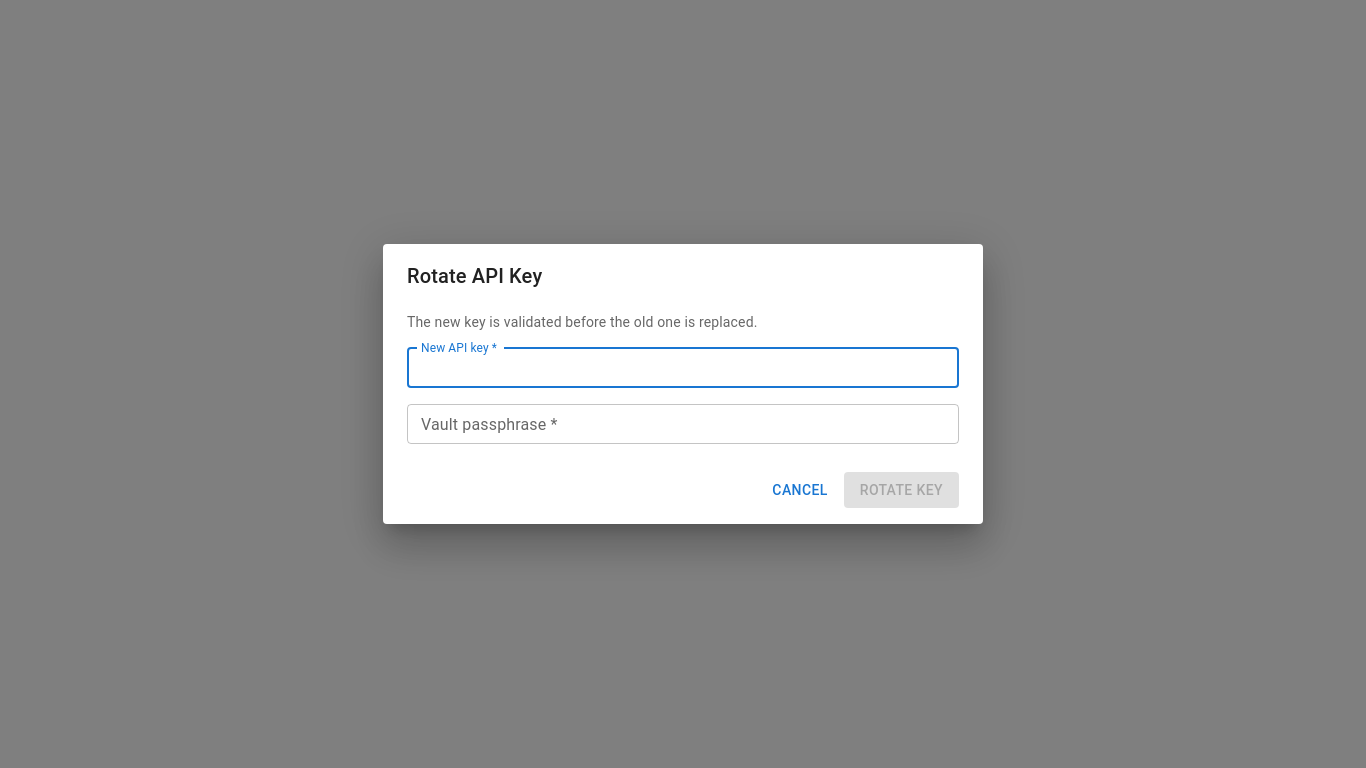
Test: RotateKeyDialog › a failed validation never touches the stored record
Step 1. Type "sk-ant-new-key-abcd" into the password field labelled "New API key *" → point(683, 368), box [407,348,959,388]
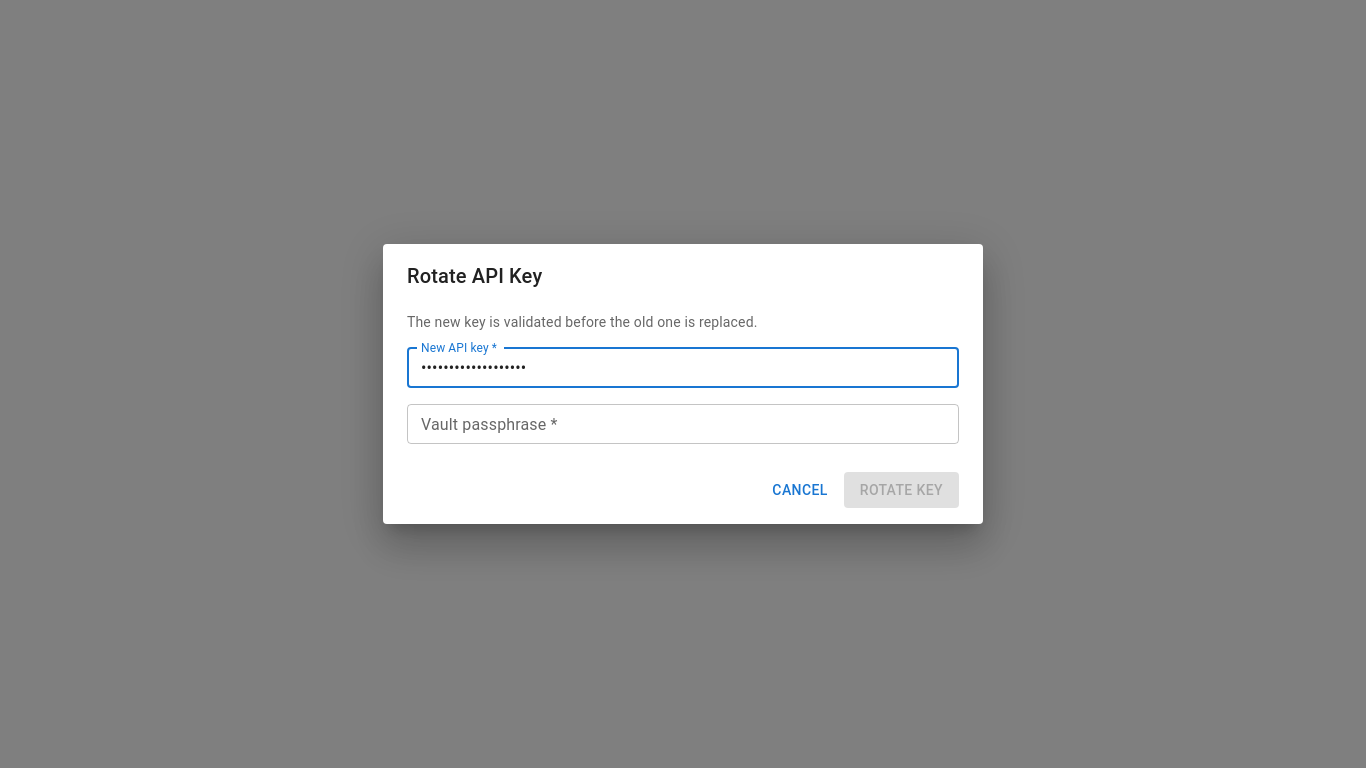
Step 2. Type "correct horse battery staple" into the password field labelled "Vault passphrase *" → point(683, 424), box [407,404,959,444]
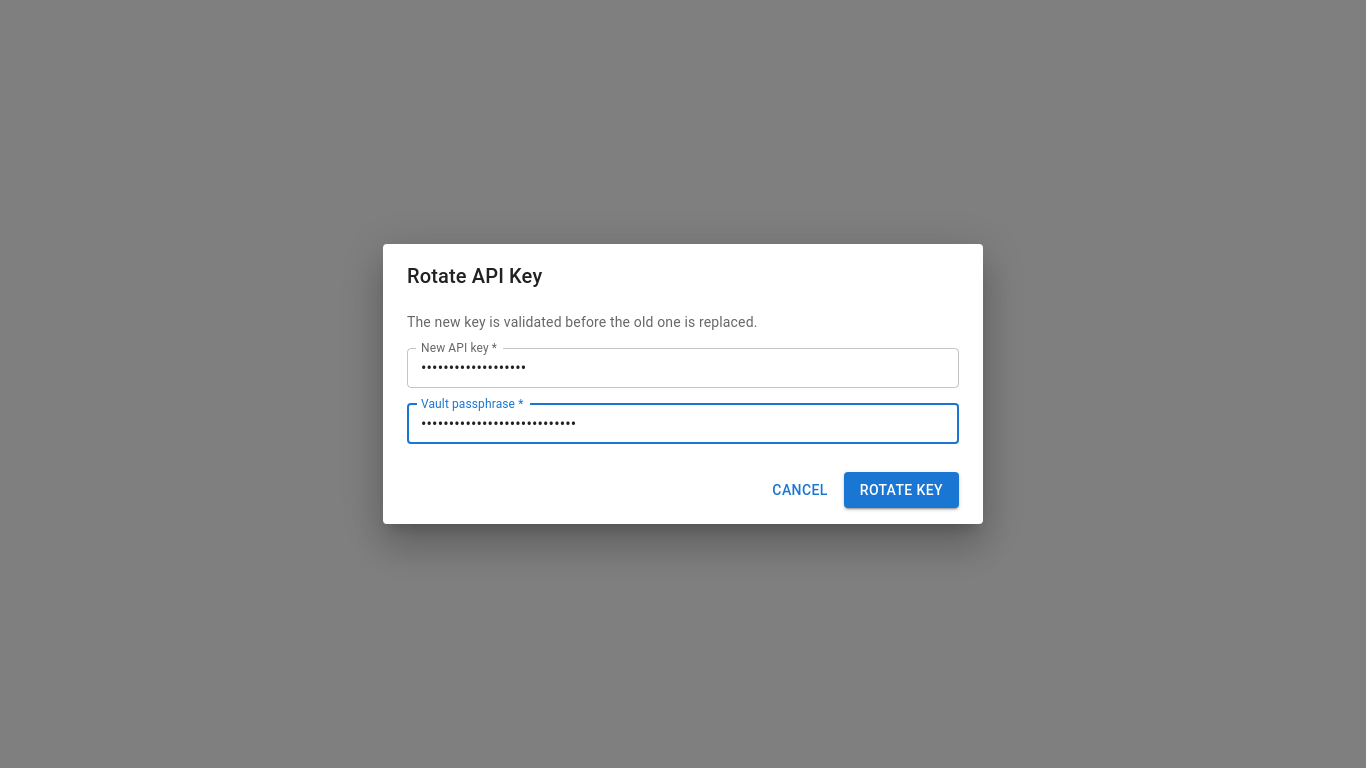
Step 3. Click the button "Rotate Key" → point(901, 490), box [844,472,959,508]
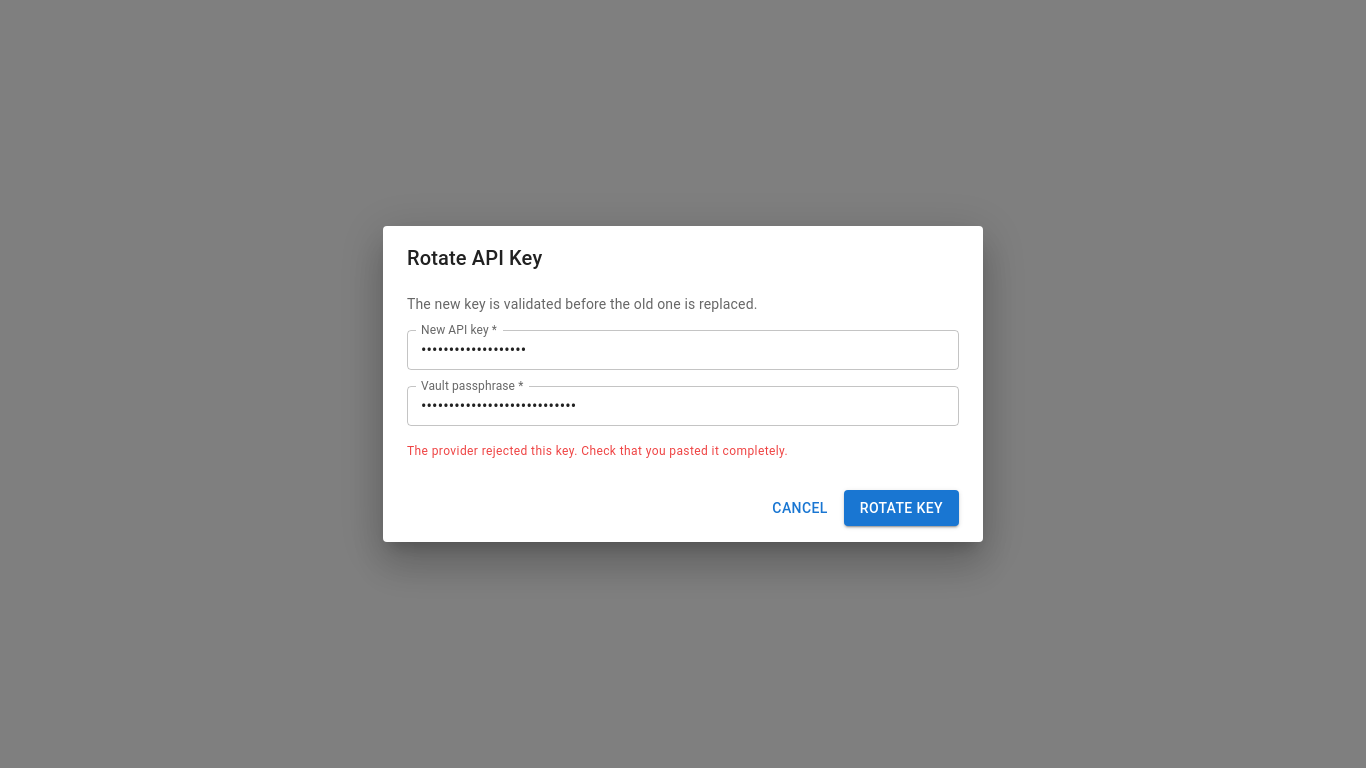
Expected: the text "The provider rejected this key. Check that you pasted it completely." is shown, [407,444,788,458]
